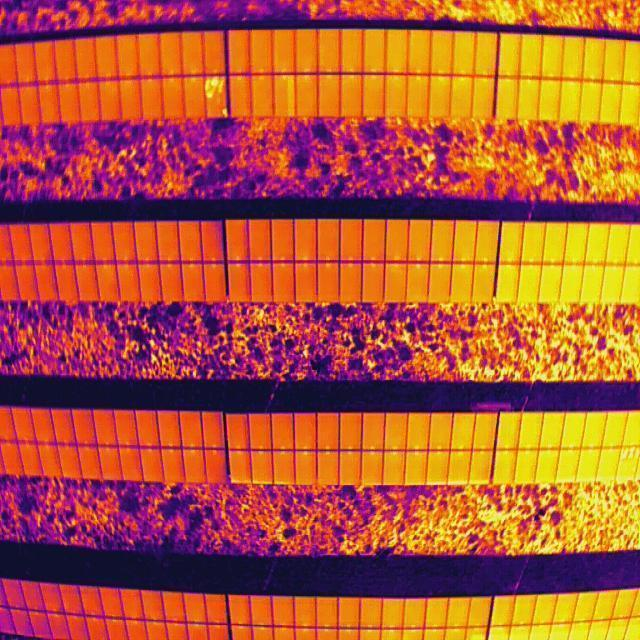diode: (287, 74, 296, 118)
hotspot: (204, 77, 226, 100)
